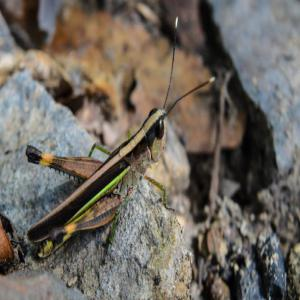locust: (27, 43, 209, 250)
